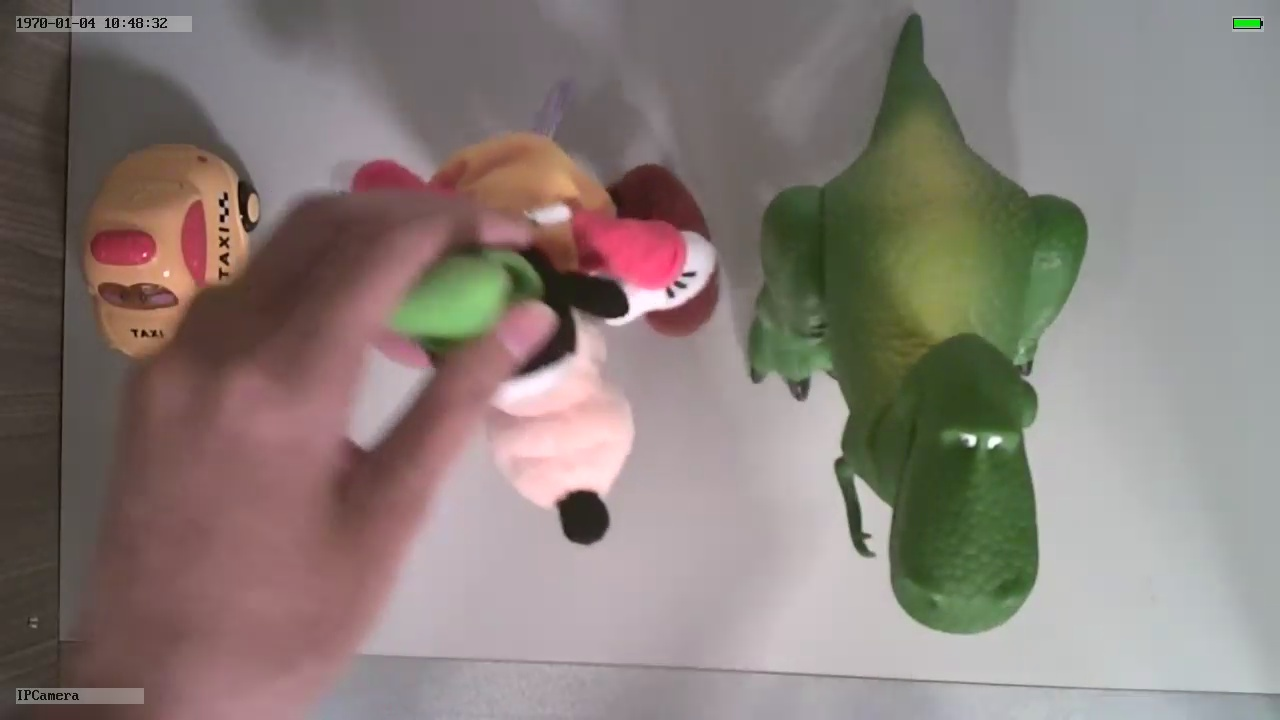rex: (748, 109, 1091, 638)
